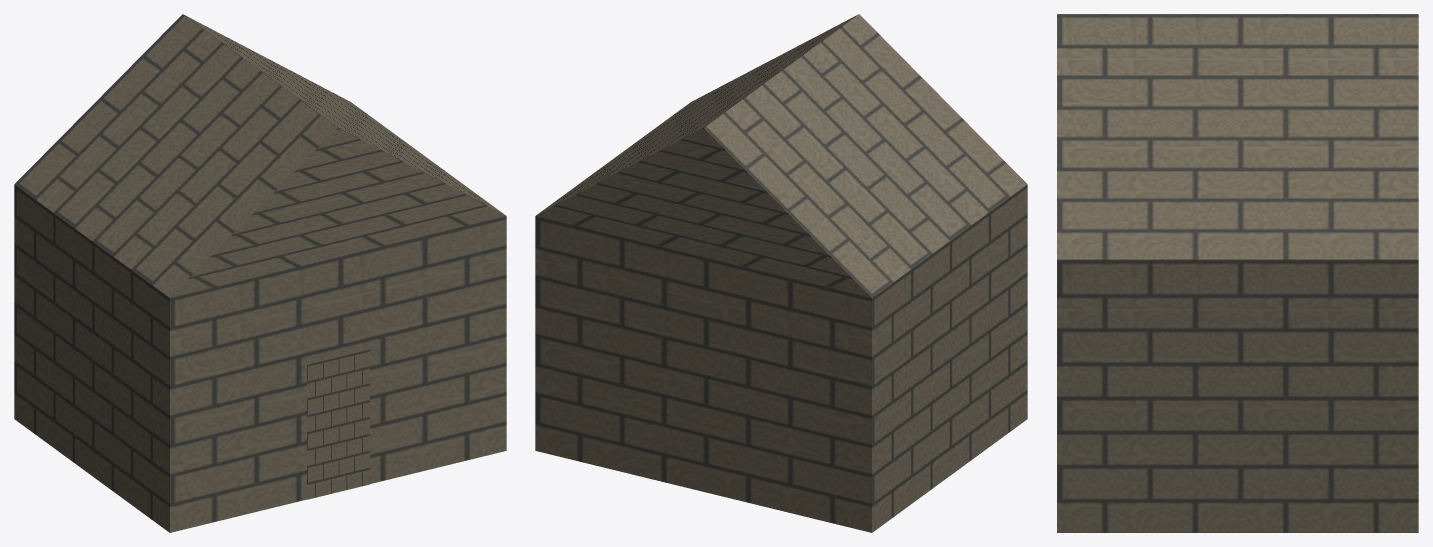
Rendered from stone_house.obj.
3 views of the same model, side by side, from view 1: azimuth 30°, elevation 25°; view 2: azimuth 150°, elevation 25°; view 3: azimuth 270°, elevation 25° (orthographic). The views are drawn at different scales.
Parts seen in each view (by area): view 1: StoneHouse; view 2: StoneHouse; view 3: StoneHouse.
Part boxes in pixels (box(x1,y1,x2,y2)): StoneHouse: box(14, 14, 506, 532); StoneHouse: box(535, 14, 1027, 532); StoneHouse: box(1057, 14, 1418, 532).
Bounding box in the file's own units: 3 × 3.1 × 2.41.
1 material, 1 textured.
